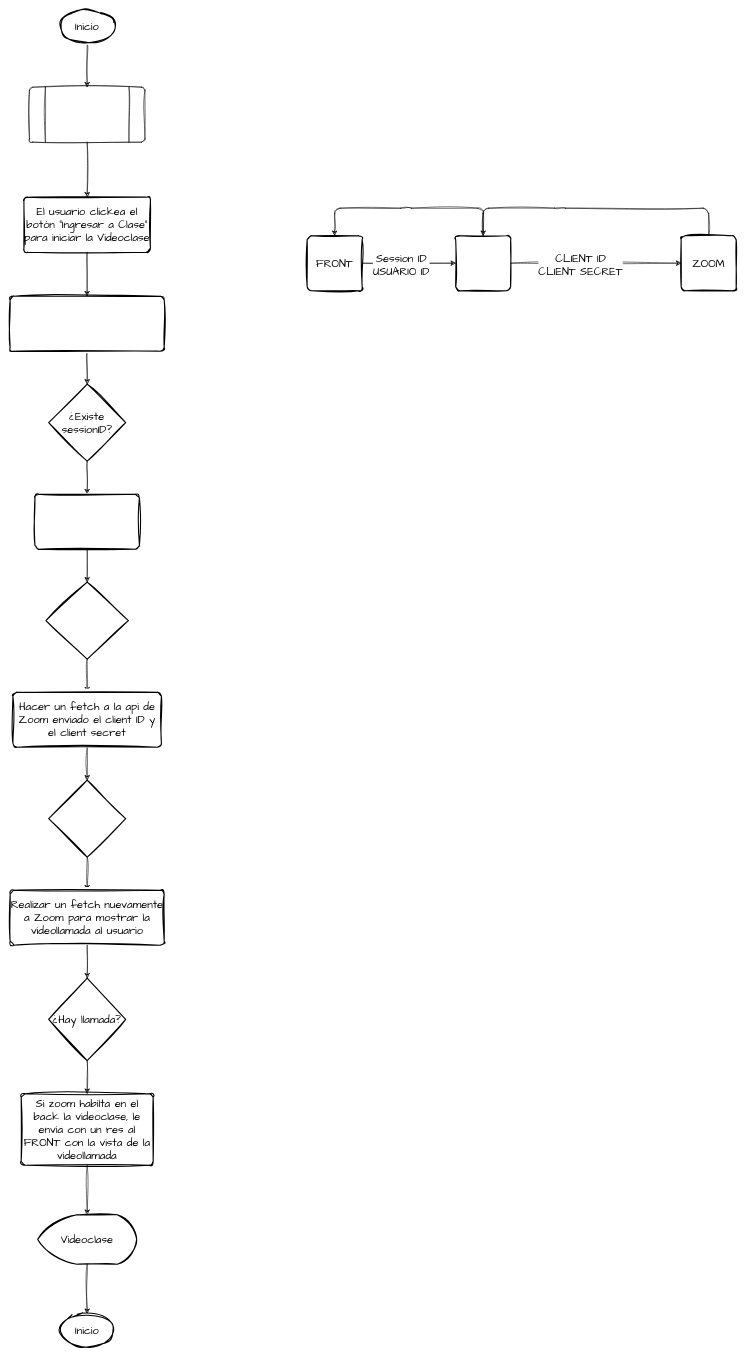
Image size: 746x1356. Some labels were removed from this diagram. Each missing label, with the centre of its shape:
"BACK" goes at (x=483, y=263).
"Client ID; Client Secret;" goes at (x=87, y=114).
"ClientID && Client Secret" goes at (x=87, y=818).
"Mostrar usuarioID y comparar con la cookie de usuarioID" goes at (x=87, y=521).
"Se realizará por medio de un método GET una peticion desde el FROTN al BACK" goes at (x=86, y=323).
"usuarioID === body" goes at (x=87, y=620).
